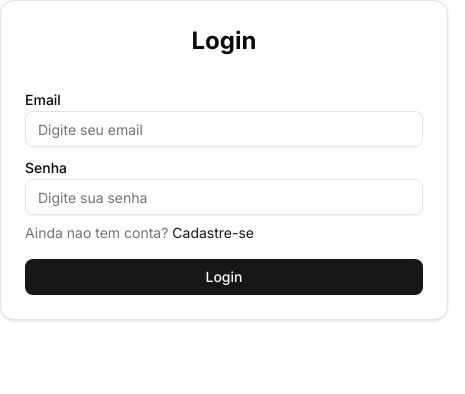
it: LoginForm › valida campos obrigatórios e formato de email
Click the button "Login". click: (224,277)
box: [25,259,423,295]
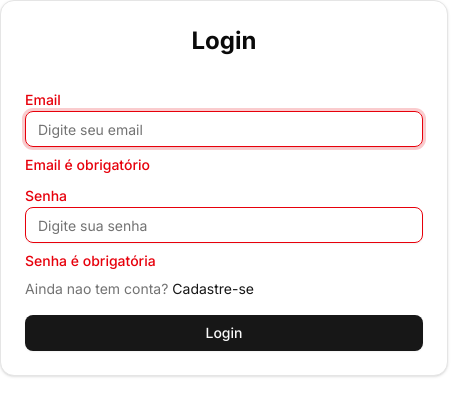
Check: the text "Email é obrigatório" is shown, box [25,156,150,173]
Check: the text "Senha é obrigatória" is shown, box [25,252,156,269]
Testa formato de email inválido
Type "foo" into the field labelled "Email". click: (224,129)
box: [25,111,423,147]
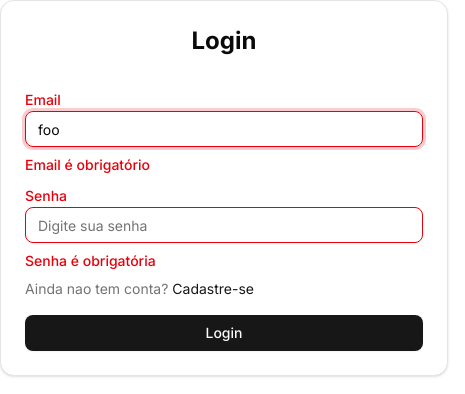
Type "12345678" into the password field labelled "Senha". click: (224,225)
box: [25,207,423,243]
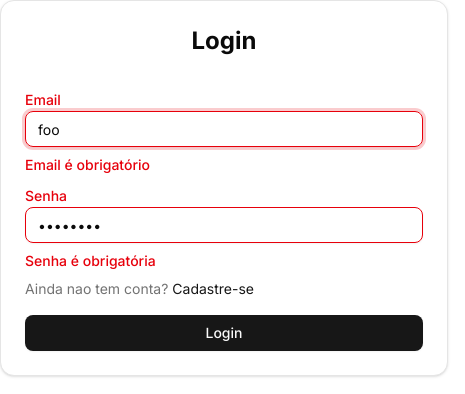
Click the button "Login". click: (224,333)
box: [25,315,423,351]
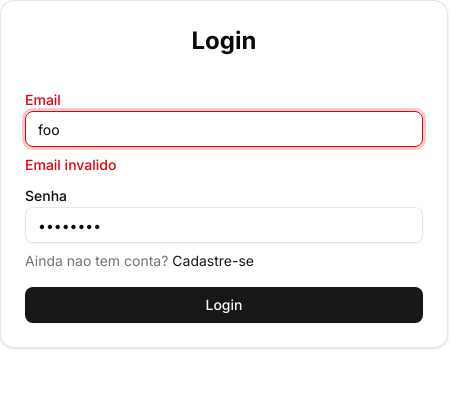
Check: the text "Email invalido" is shown, box [25,156,116,173]
